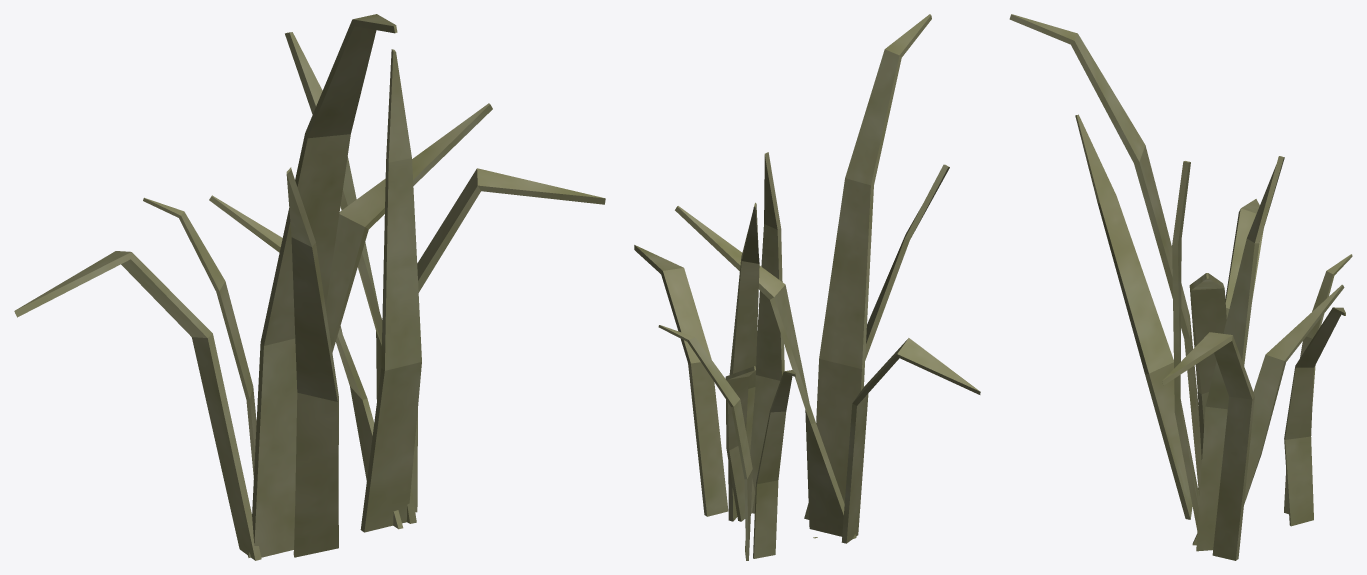
Rendered from grass_A.fbx.
3 renders of one model, left to right at view 1: azimuth 30°, elevation 25°; view 2: azimuth 150°, elevation 25°; view 3: azimuth 270°, elevation 25°, orthographic. The views are drawn at different scales.
Parts seen in each view (by area): view 1: Grass A; view 2: Grass A; view 3: Grass A.
Boxes of the visible parts, x1=… form: Grass A: x1=14, y1=14, x2=605, y2=560; Grass A: x1=634, y1=14, x2=980, y2=560; Grass A: x1=1009, y1=14, x2=1352, y2=560.
Size of the model in its own units: 26.71 by 29.66 by 19.06.
